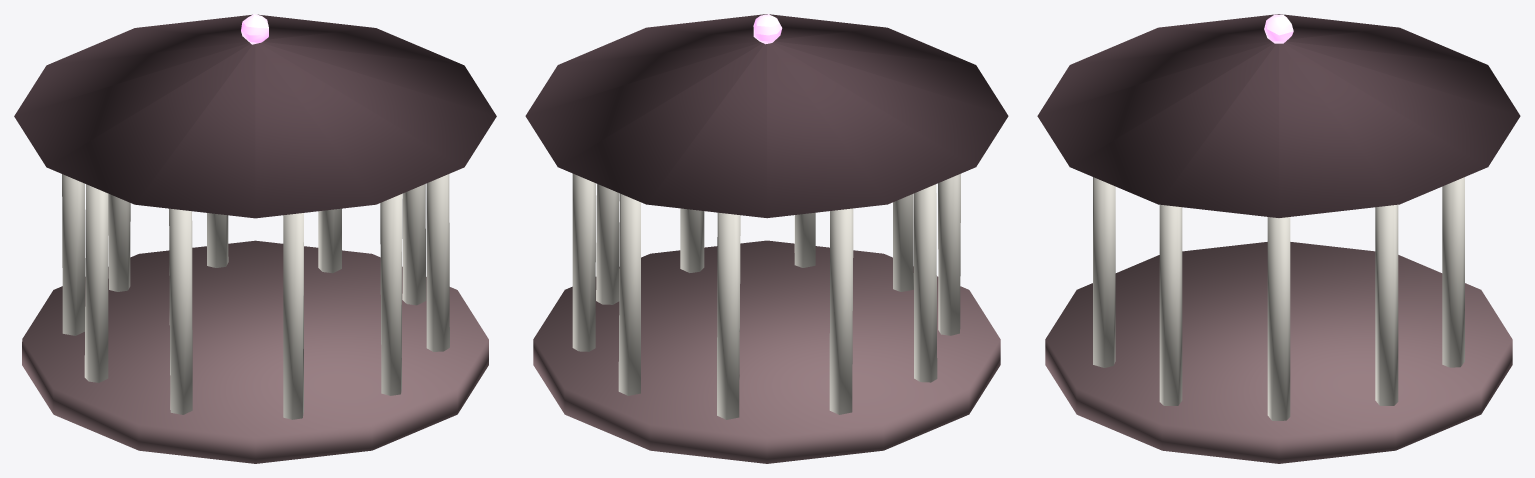
File: SM_Neroberg_Monopteros_LOD3.fbx
The picture shows the model from 3 angles, left to right: view 1: azimuth 30°, elevation 25°; view 2: azimuth 150°, elevation 25°; view 3: azimuth 270°, elevation 25°; orthographic projection.
Parts seen in each view (by area): view 1: SM_Neroberg_Monopteros_LOD3; view 2: SM_Neroberg_Monopteros_LOD3; view 3: SM_Neroberg_Monopteros_LOD3.
Boxes of the visible parts, x1,y1,x2,y2 form: SM_Neroberg_Monopteros_LOD3: [14, 14, 496, 463]; SM_Neroberg_Monopteros_LOD3: [525, 14, 1008, 463]; SM_Neroberg_Monopteros_LOD3: [1037, 14, 1520, 463].
Bounding box in the file's own units: 5.79 × 4.62 × 5.79.
